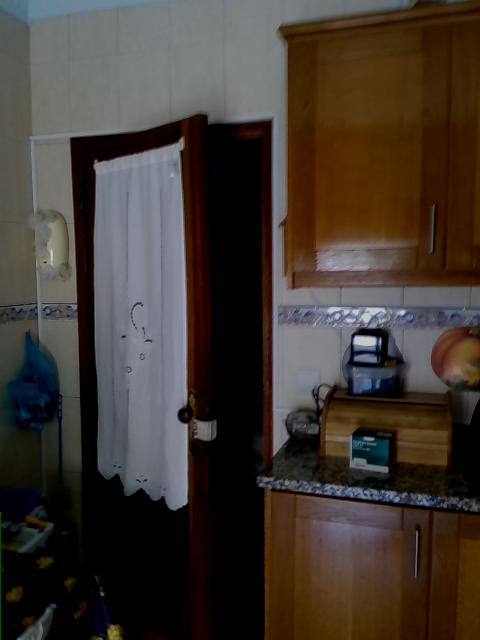semi_door: (67, 110, 274, 639)
